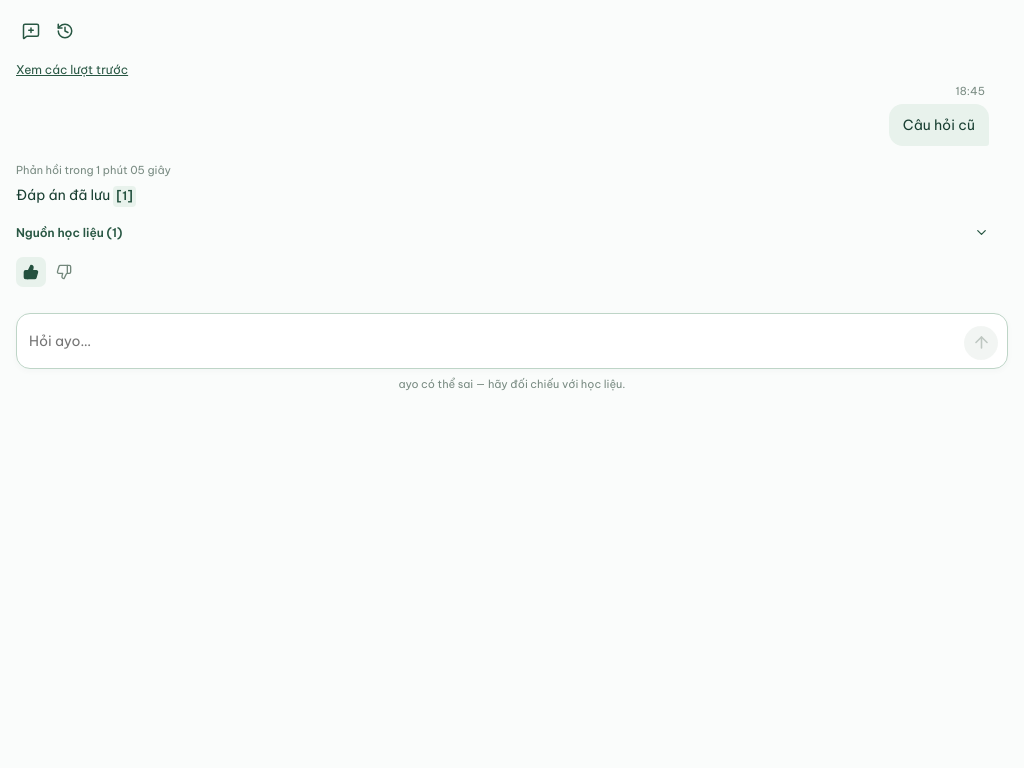
Test case: does not leave older-history pagination stuck if a question is sent while loading it
This screenshot has width=1024, height=768.
Check: the text "Câu hỏi cũ" is shown, box [889, 104, 989, 146]
Click the button "Xem các lượt trước" at coordinates (72, 70), box [16, 58, 128, 81]
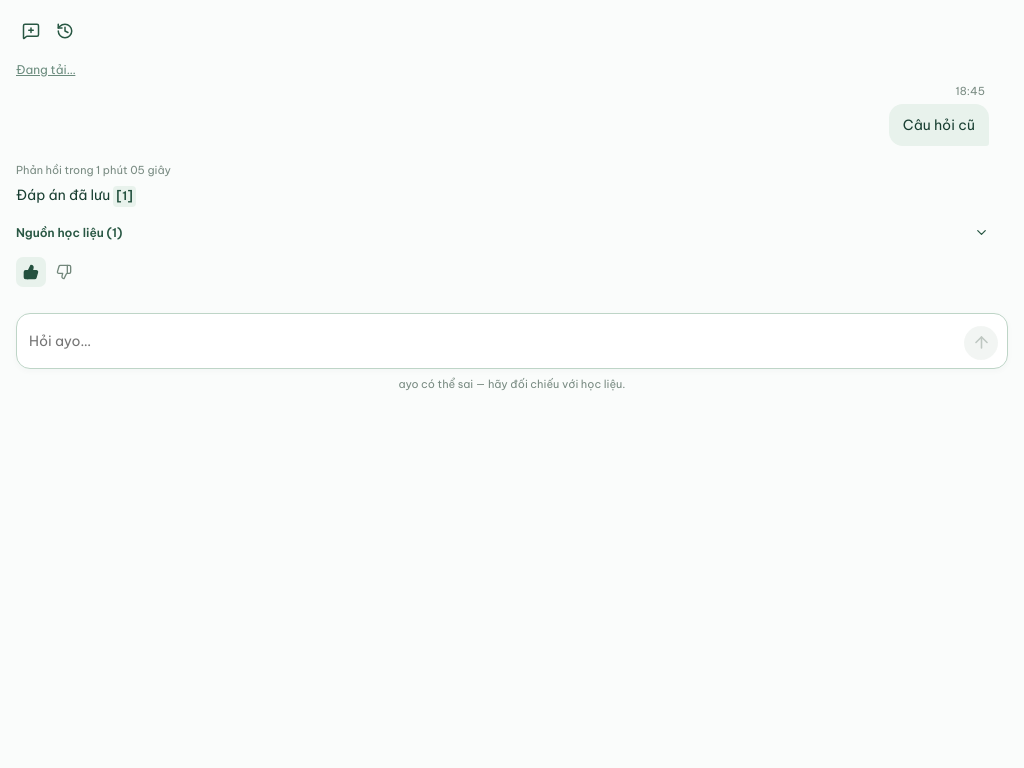
Type "Câu hỏi tiếp" into the text box at coordinates (492, 341), box [29, 325, 956, 357]
Then press Enter
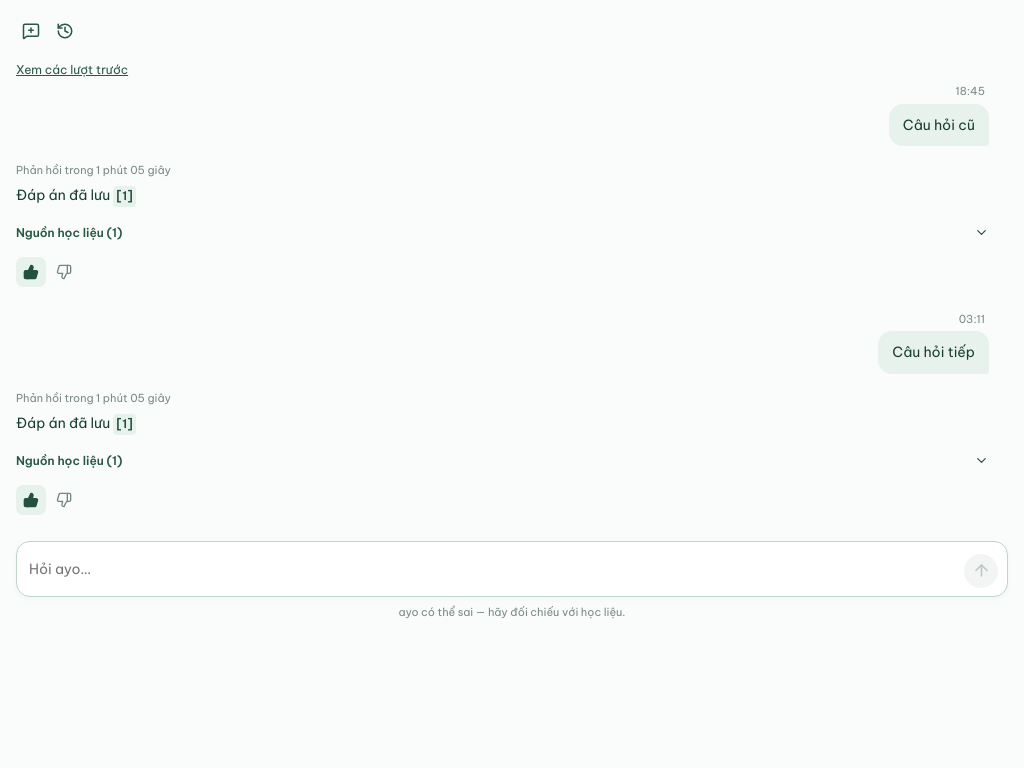
Check: the button "Xem các lượt trước" is enabled, box [16, 58, 128, 81]
